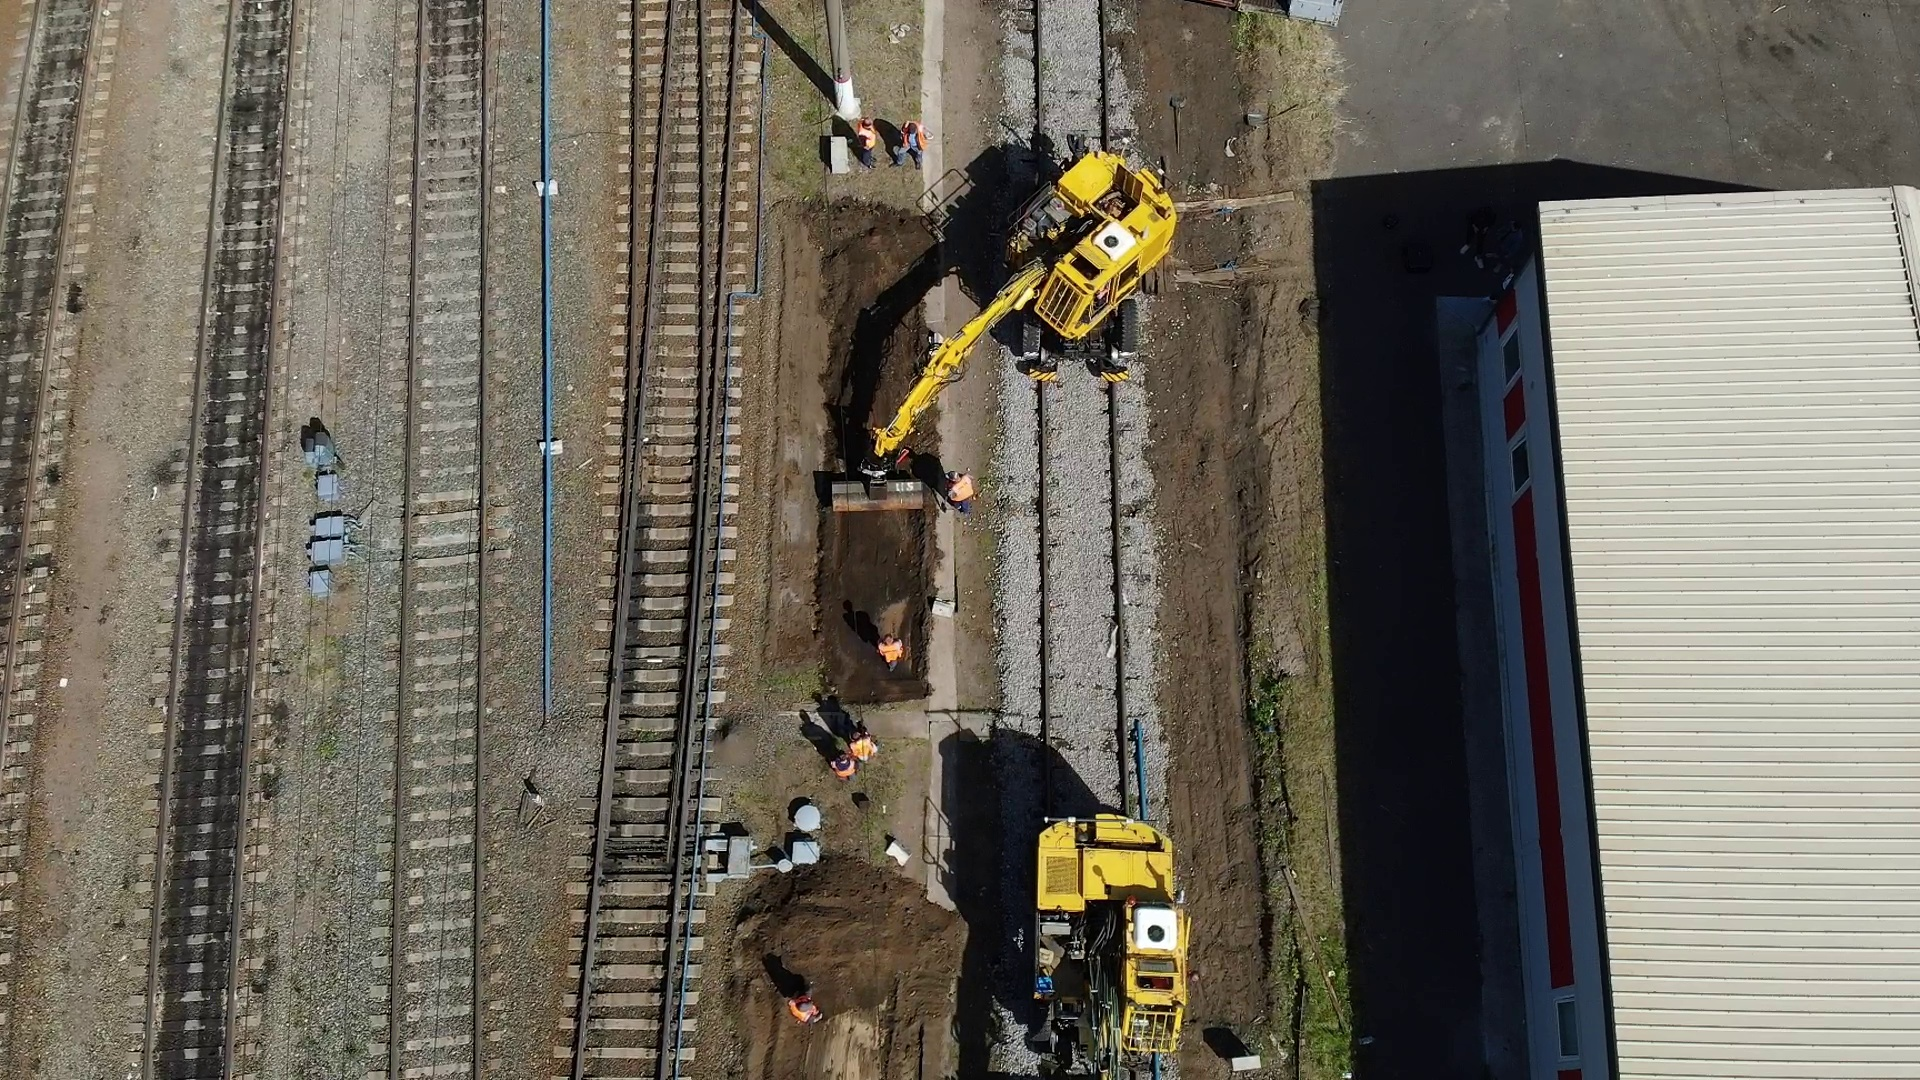kjtv: (964, 156, 1176, 378), (1030, 798, 1191, 1080)
